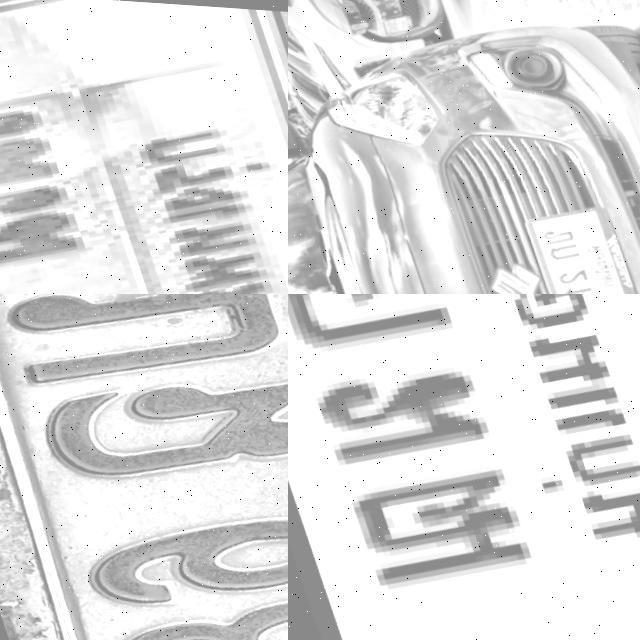license-plate: (288, 294, 640, 640), (0, 294, 288, 640), (0, 0, 288, 294), (512, 191, 638, 294), (375, 4, 415, 34)
